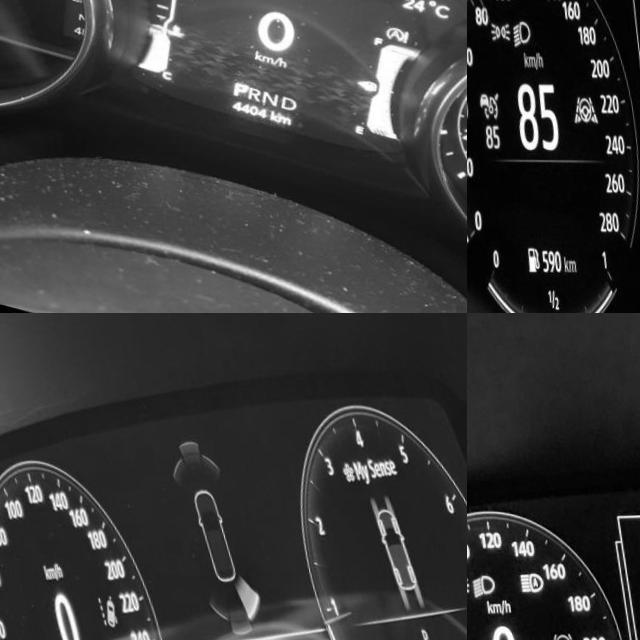Low beam: (506, 19, 526, 47), (467, 573, 488, 599)
SideLamp: (484, 20, 505, 41)
